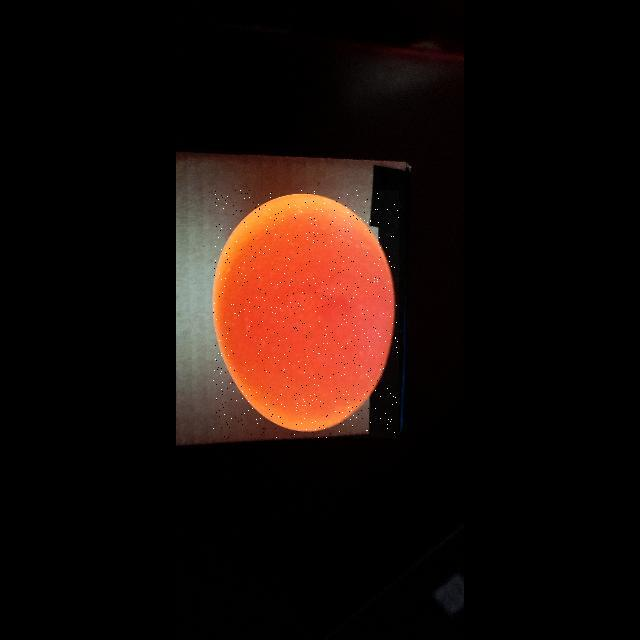A - Good: (213, 190, 399, 438)
